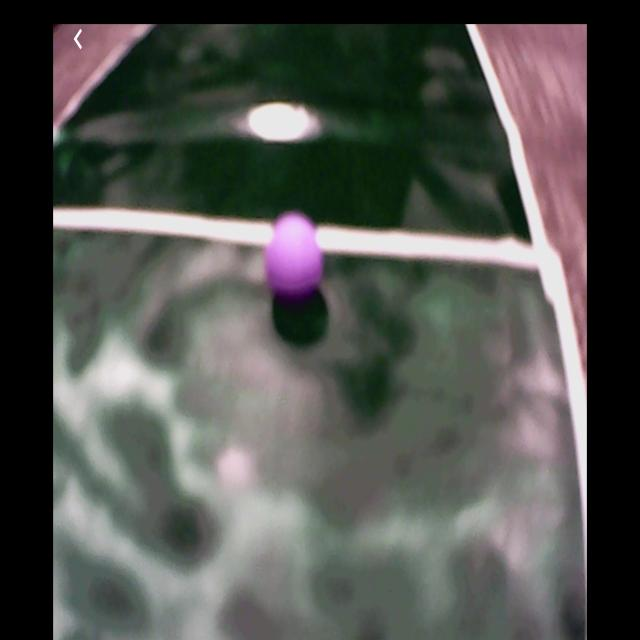ball: (264, 210, 325, 300)
